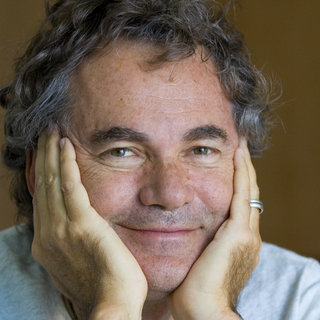eye: (86, 138, 149, 172), (176, 141, 228, 168)
